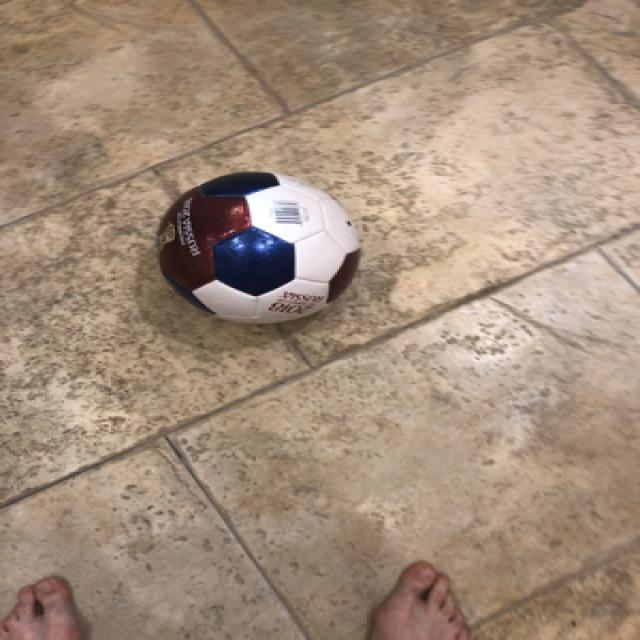soccer_ball: (149, 166, 363, 326)
